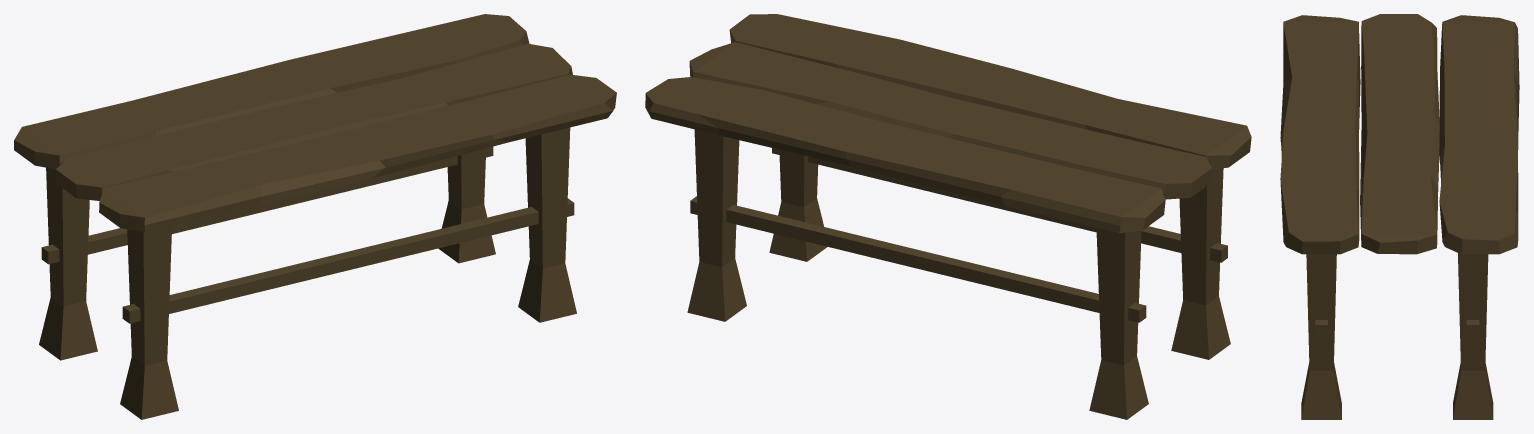
Rendered from fantasy_table_wood_1.fbx.
The picture shows the model from 3 angles, left to right: view 1: azimuth 30°, elevation 25°; view 2: azimuth 150°, elevation 25°; view 3: azimuth 270°, elevation 25°; orthographic projection. The views are drawn at different scales.
Parts seen in each view (by area): view 1: Cube.063; view 2: Cube.063; view 3: Cube.063.
Boxes of the visible parts, bbox=[...] form: Cube.063: bbox=[14, 14, 616, 419]; Cube.063: bbox=[645, 14, 1251, 419]; Cube.063: bbox=[1280, 14, 1519, 419].
Size of the model in its own units: 213 by 86 by 94.7.
